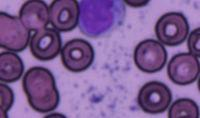M: (76, 0, 126, 38)
